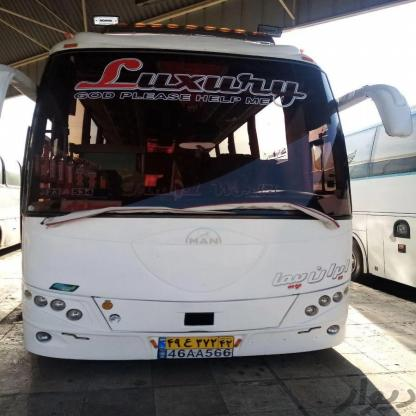Bus: (22, 32, 355, 364), (334, 111, 416, 304)
